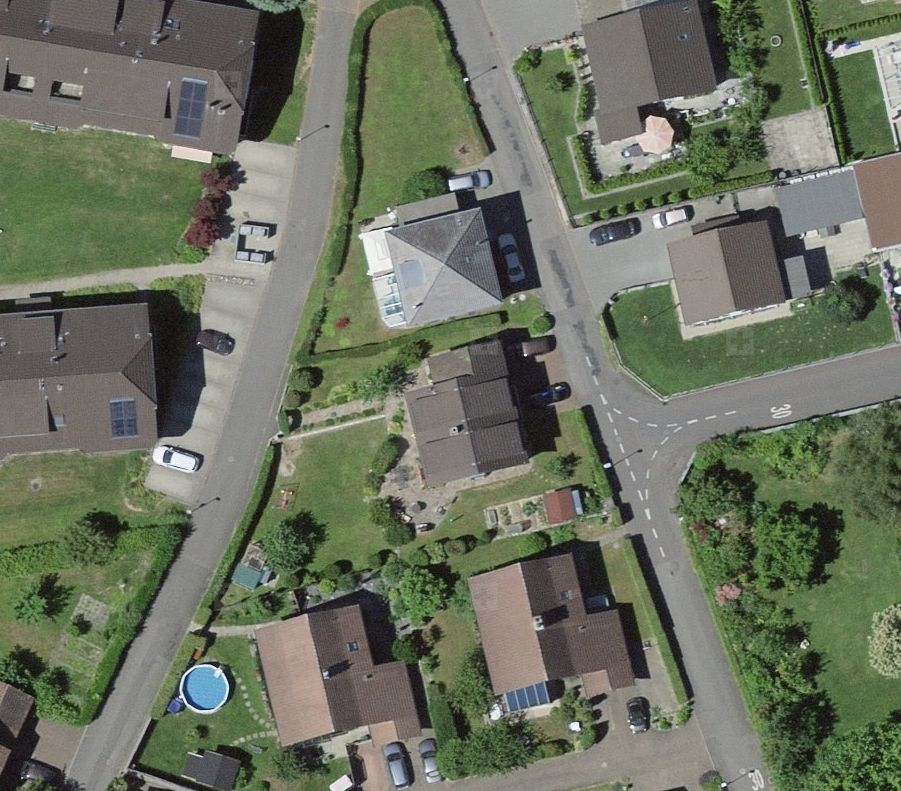solar: (163, 68, 213, 144), (500, 673, 558, 719), (102, 388, 145, 448)
